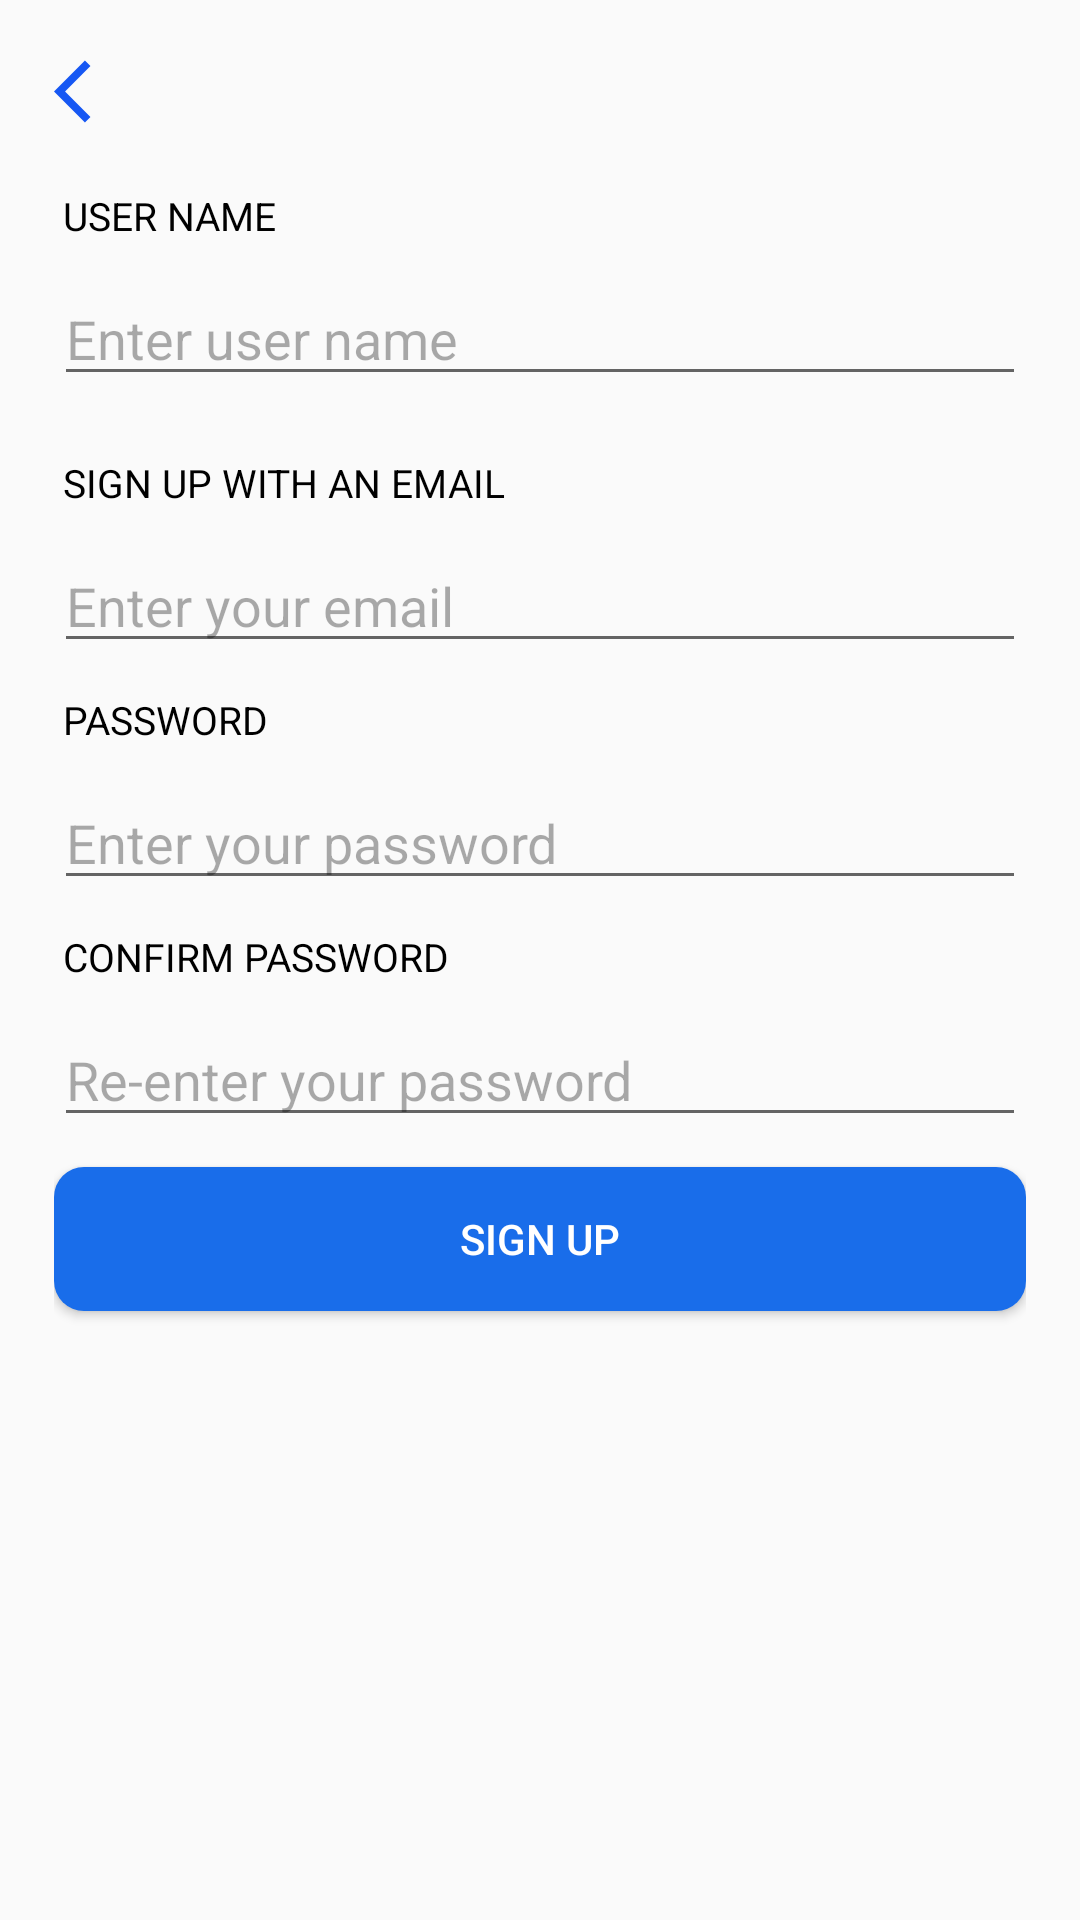

Point at icon controls on the screen. Image size 1080×1920, points as [x,y].
back: [72,91]
